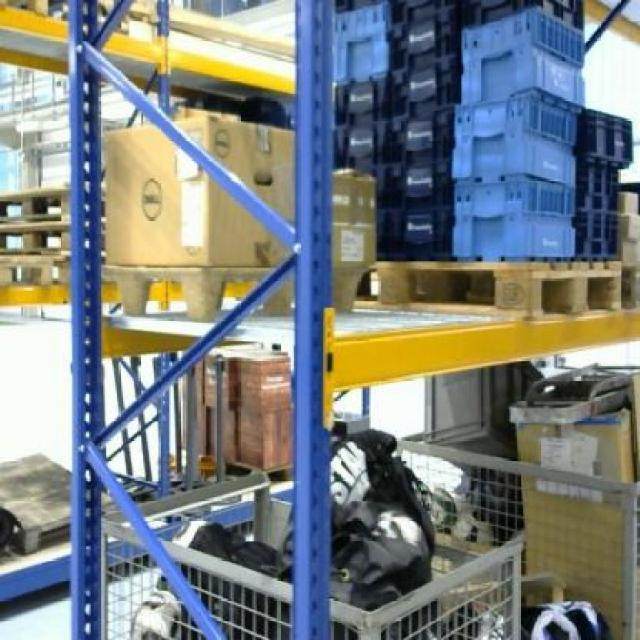box: (107, 113, 296, 269), (514, 423, 637, 592), (332, 171, 376, 266)
